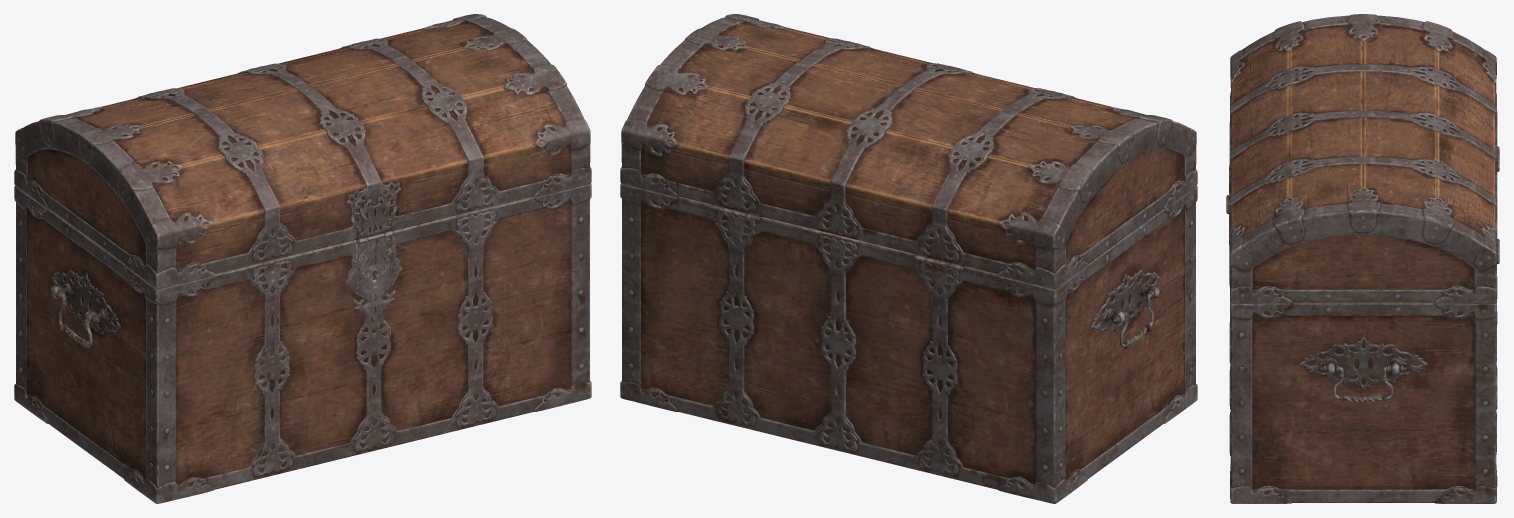
The model's file is treasure_chest.glb.
3 views of the same model, side by side, from view 1: azimuth 30°, elevation 25°; view 2: azimuth 150°, elevation 25°; view 3: azimuth 270°, elevation 25° (orthographic). The views are drawn at different scales.
Parts seen in each view (by area): view 1: treasure_chest_bottom, treasure_chest_lid, treasure_chest_lock; view 2: treasure_chest_bottom, treasure_chest_lid; view 3: treasure_chest_lid, treasure_chest_bottom, treasure_chest_handle_right.
Part boxes in pixels (box(x1,y1,x2,y2)): treasure_chest_bottom: box(14, 183, 591, 503); treasure_chest_lid: box(14, 14, 591, 288); treasure_chest_lock: box(349, 233, 399, 322); treasure_chest_bottom: box(620, 183, 1197, 503); treasure_chest_lid: box(620, 14, 1197, 288); treasure_chest_lid: box(1226, 14, 1499, 303); treasure_chest_bottom: box(1229, 152, 1499, 503); treasure_chest_handle_right: box(1320, 365, 1406, 402).
Size of the model in its own units: 0.959 by 0.619 by 0.5229.
1 material, 1 textured.
